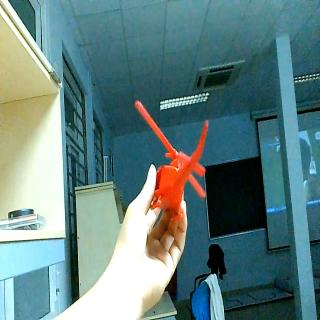Helicopter: (134, 97, 208, 222)
